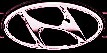Hyundai: (2, 1, 107, 50)
